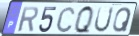5: (37, 6, 58, 34)
C: (55, 6, 76, 34)
Q: (73, 5, 94, 36), (111, 7, 133, 34)
R: (17, 6, 39, 33)
U: (93, 6, 115, 34)
